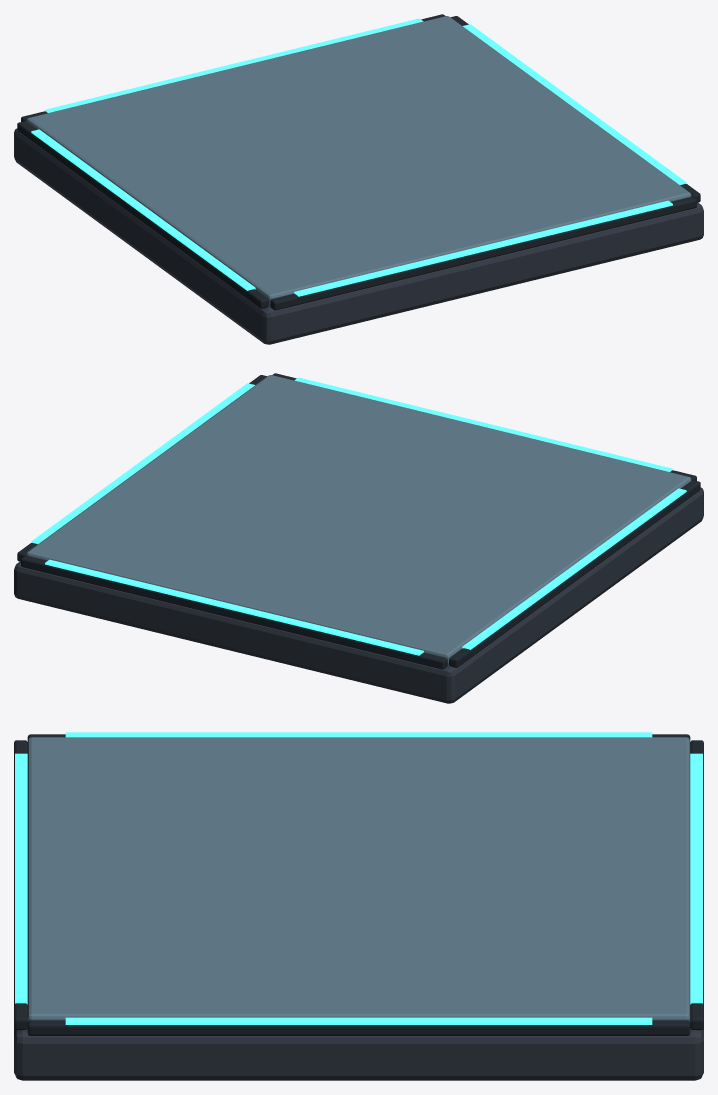
Rendered from PlataformaFinal.fbx.
3 renders of one model, top to bottom at view 1: azimuth 30°, elevation 25°; view 2: azimuth 150°, elevation 25°; view 3: azimuth 270°, elevation 25°, orthographic. The views are drawn at different scales.
Visible parts, largest first — view 1: Travessia_Superficie, Travessia_BaseConcreto, Travessia_DetalhesLuminosos, Travessia_AcabamentosMetalicos; view 2: Travessia_Superficie, Travessia_BaseConcreto, Travessia_DetalhesLuminosos, Travessia_AcabamentosMetalicos; view 3: Travessia_Superficie, Travessia_BaseConcreto, Travessia_DetalhesLuminosos, Travessia_AcabamentosMetalicos.
Boxes of the visible parts, left/top/right/bottom form: Travessia_Superficie: left=26, top=16, right=691, bottom=304; Travessia_BaseConcreto: left=14, top=128, right=703, bottom=344; Travessia_DetalhesLuminosos: left=31, top=18, right=686, bottom=296; Travessia_AcabamentosMetalicos: left=17, top=14, right=700, bottom=310; Travessia_Superficie: left=26, top=375, right=691, bottom=663; Travessia_BaseConcreto: left=14, top=487, right=703, bottom=703; Travessia_DetalhesLuminosos: left=31, top=377, right=686, bottom=655; Travessia_AcabamentosMetalicos: left=17, top=373, right=700, bottom=669; Travessia_Superficie: left=27, top=737, right=690, bottom=1022; Travessia_BaseConcreto: left=14, top=1028, right=703, bottom=1080; Travessia_DetalhesLuminosos: left=15, top=732, right=702, bottom=1024; Travessia_AcabamentosMetalicos: left=14, top=734, right=703, bottom=1035.
Bounding box in the file's own units: 600 × 60 × 600.
